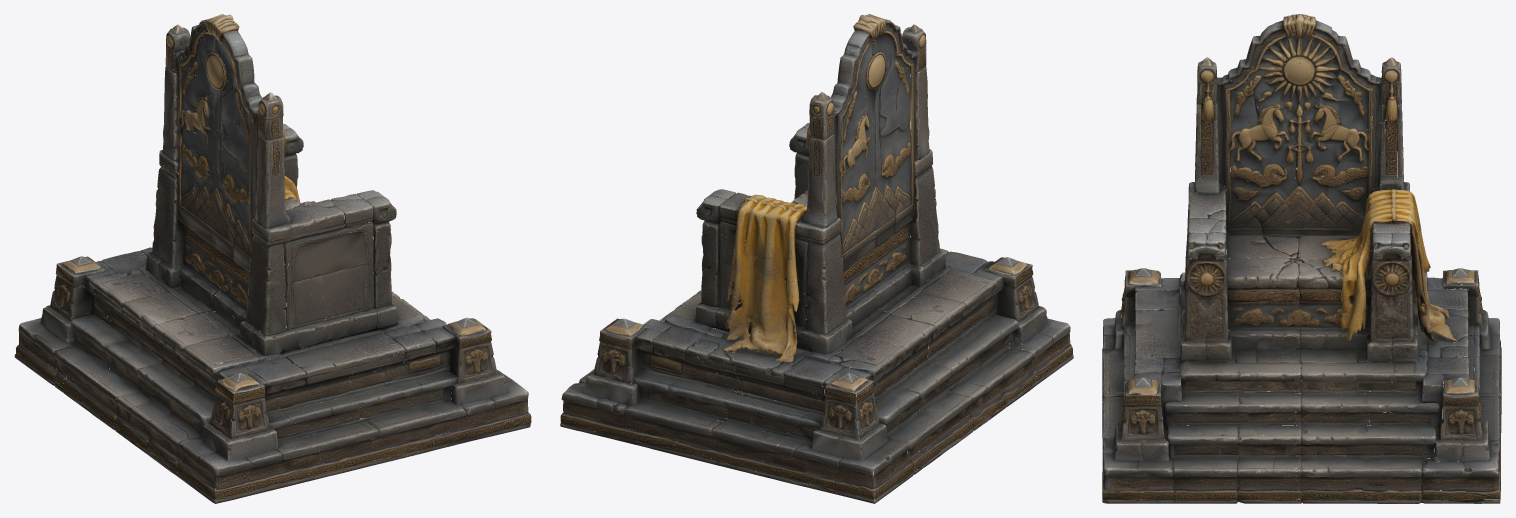
File: khan-throne-tripo.glb
The picture shows the model from 3 angles, left to right: view 1: azimuth 30°, elevation 25°; view 2: azimuth 150°, elevation 25°; view 3: azimuth 270°, elevation 25°; orthographic projection.
Visible parts, largest first — view 1: tripo_node_d58b3c26-e7d7-42af-bd91-6fabb8f62f29; view 2: tripo_node_d58b3c26-e7d7-42af-bd91-6fabb8f62f29; view 3: tripo_node_d58b3c26-e7d7-42af-bd91-6fabb8f62f29.
Boxes of the visible parts, x1,y1,x2,y2 form: tripo_node_d58b3c26-e7d7-42af-bd91-6fabb8f62f29: (14, 14, 531, 503); tripo_node_d58b3c26-e7d7-42af-bd91-6fabb8f62f29: (560, 14, 1073, 503); tripo_node_d58b3c26-e7d7-42af-bd91-6fabb8f62f29: (1102, 14, 1501, 503).
Size of the model in its own units: 0.8541 by 0.9999 by 0.9364.
1 material, 1 textured.
